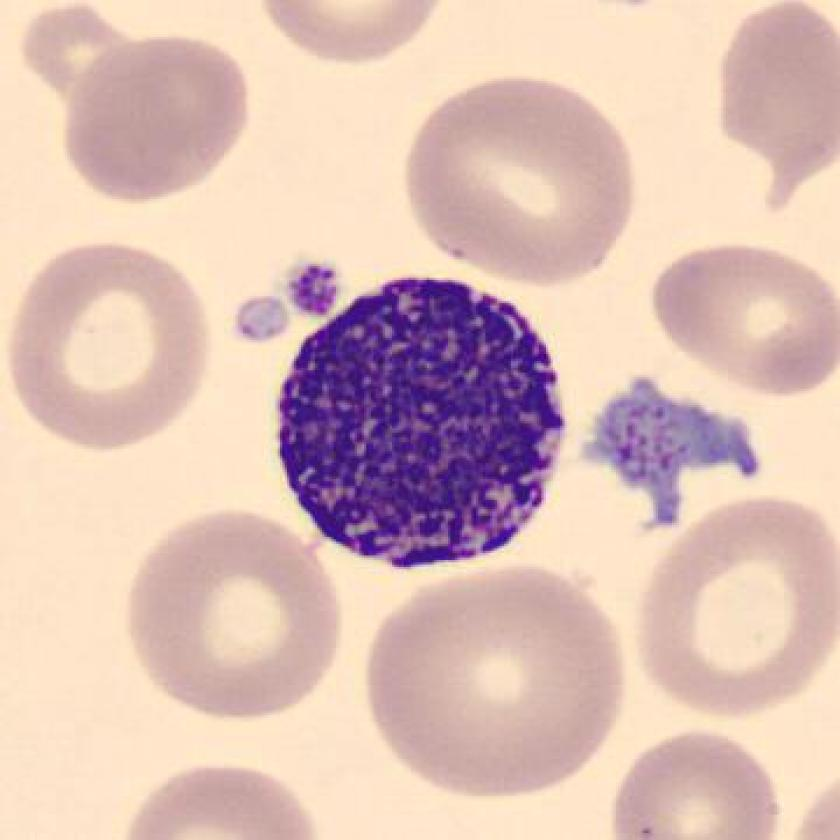basophil: (265, 265, 591, 582)
